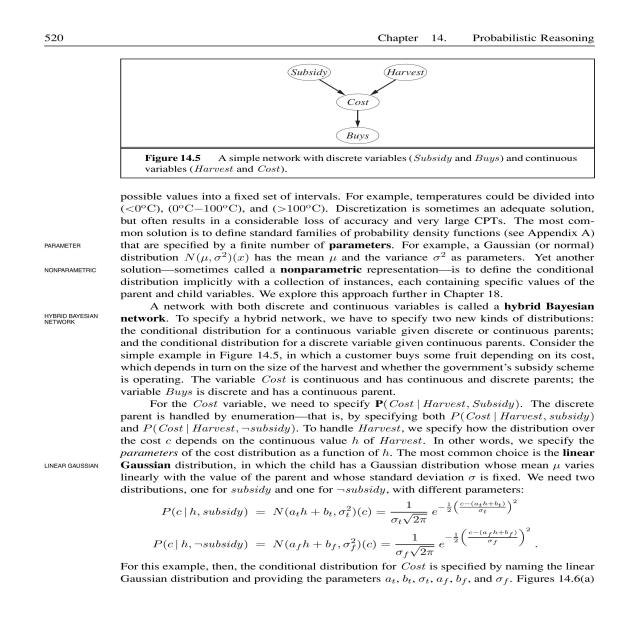diagram: (109, 46, 617, 185)
